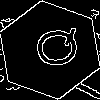Q: (25, 25, 82, 72)
